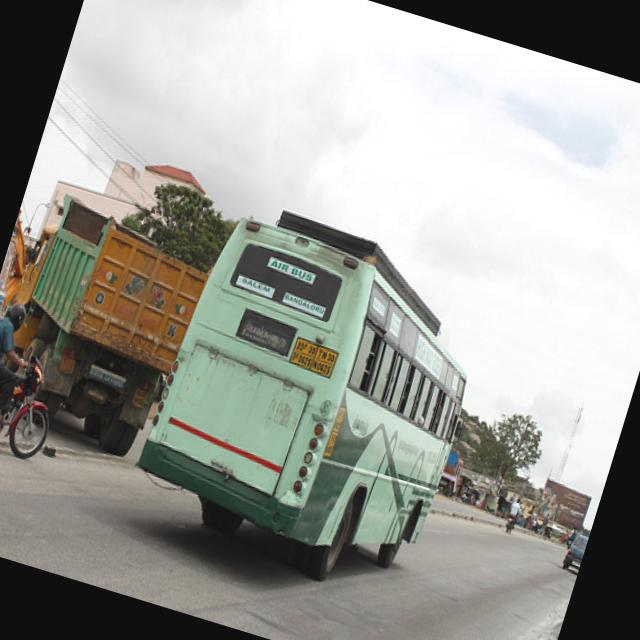Vehicle: (120, 208, 497, 600), (0, 185, 221, 464), (0, 338, 67, 461), (436, 444, 468, 498), (558, 528, 590, 576), (502, 512, 517, 534)
